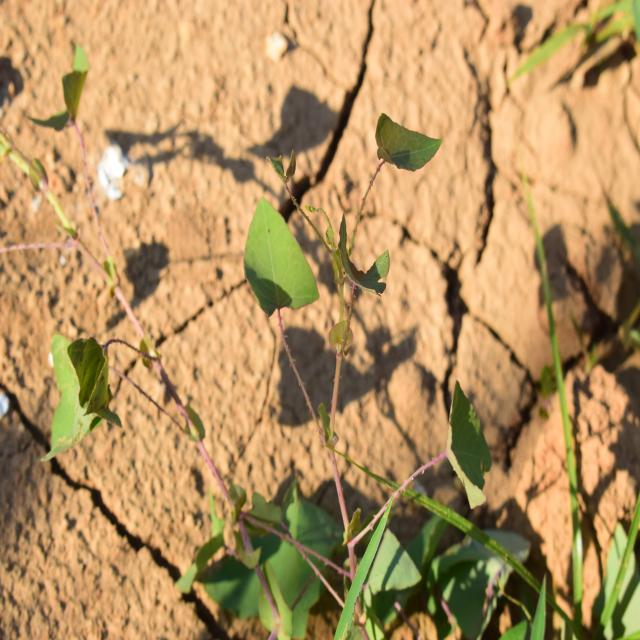Asiatic_Smartweed: (223, 101, 432, 409), (30, 286, 165, 465)
